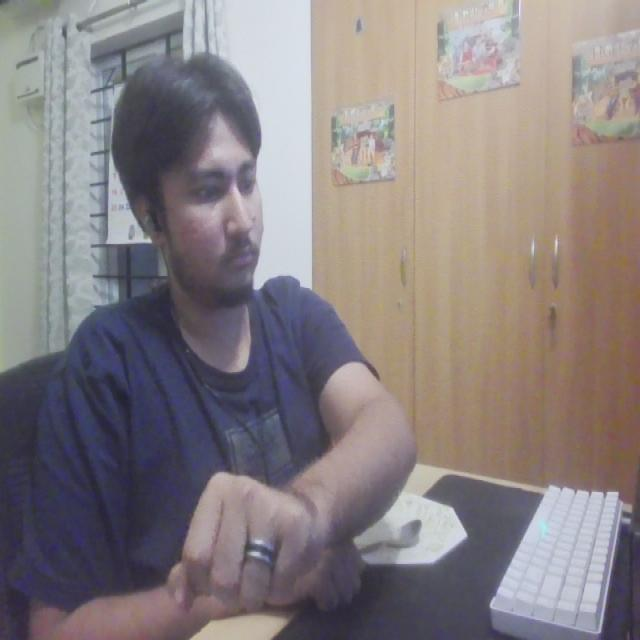yes: (162, 467, 334, 624)
